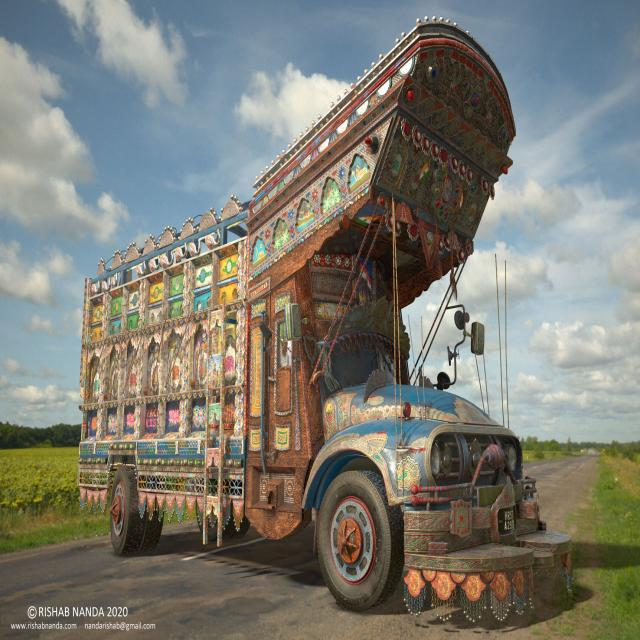truck: (78, 17, 571, 620)
